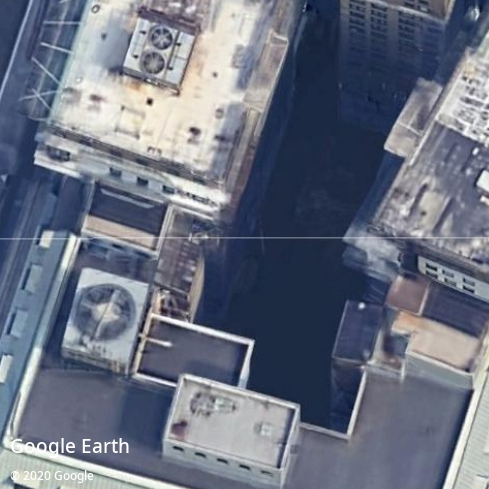Vent: (76, 284, 134, 339), (151, 27, 173, 51), (142, 52, 164, 75)
